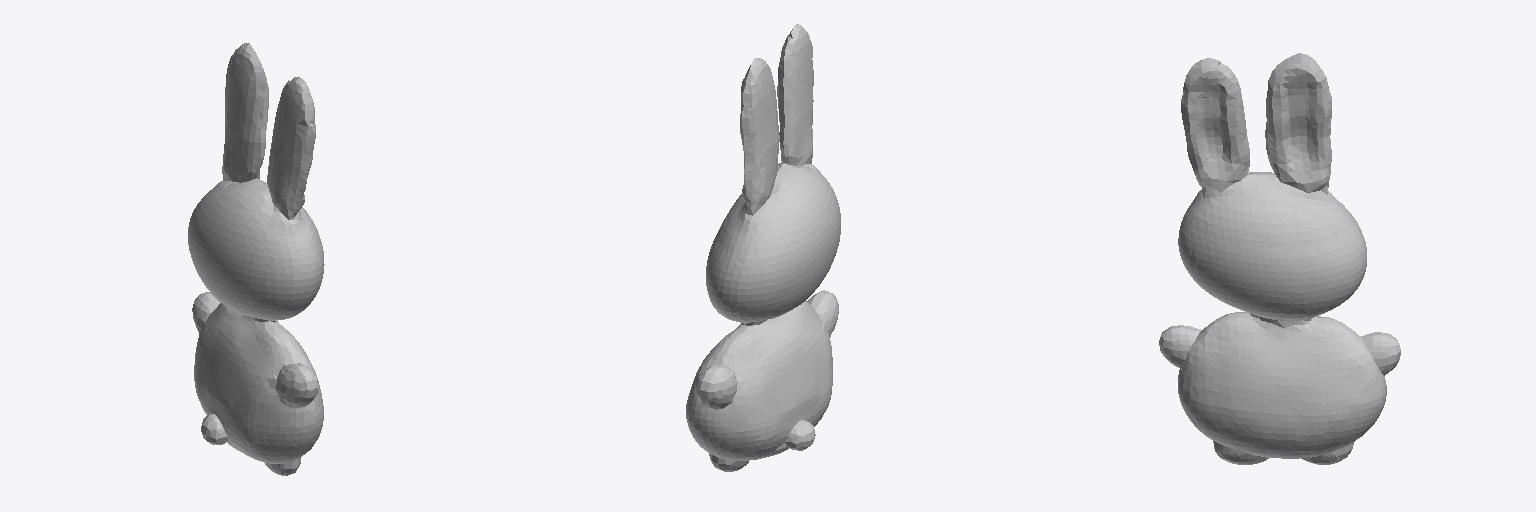
The model's file is rabbit_aug_9.obj.
3 views of the same model, side by side, from view 1: azimuth 30°, elevation 25°; view 2: azimuth 150°, elevation 25°; view 3: azimuth 270°, elevation 25° (orthographic).
Size of the model in its own units: 26.72 by 103 by 55.26.